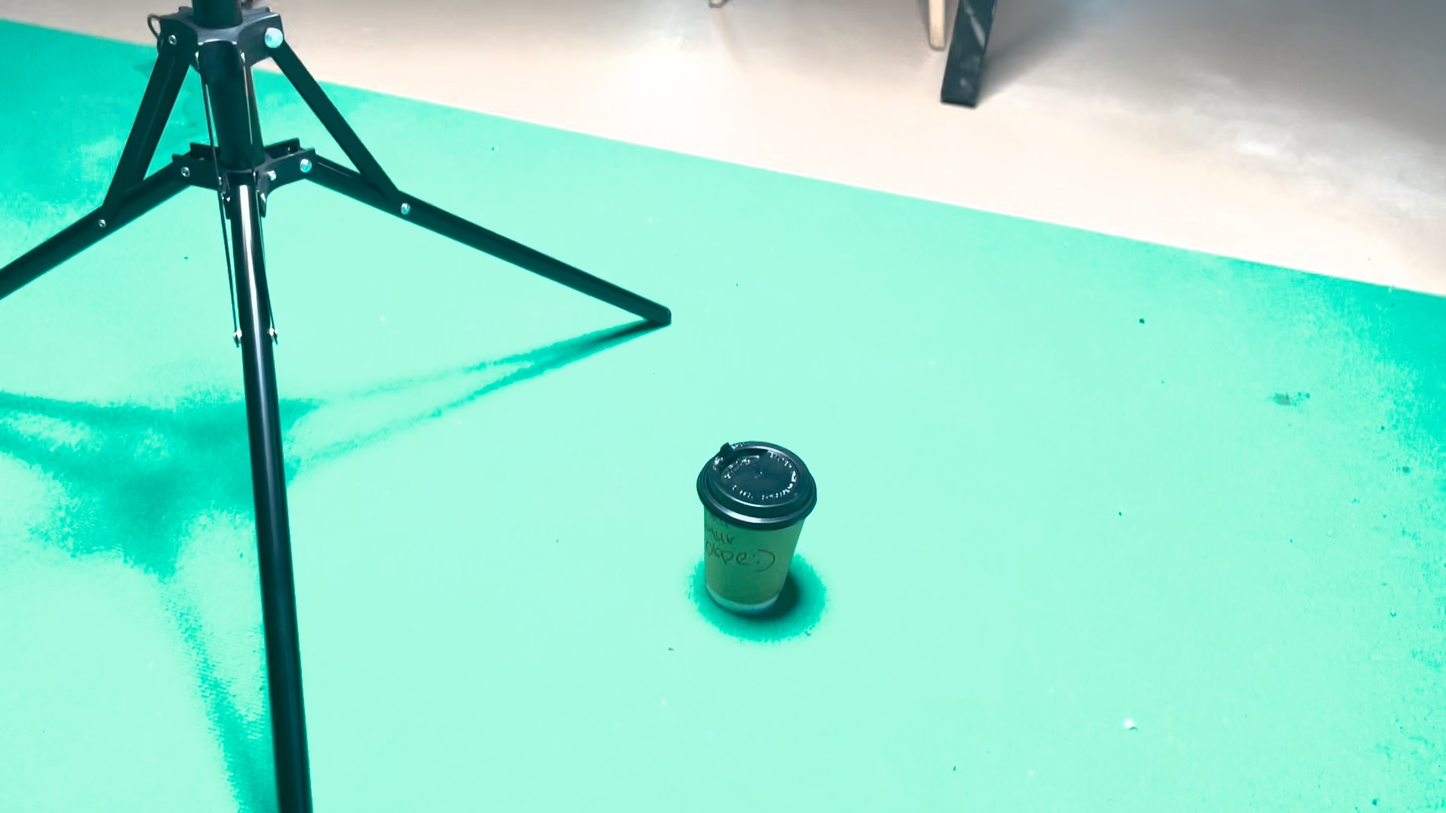cup: (751, 403, 840, 519)
